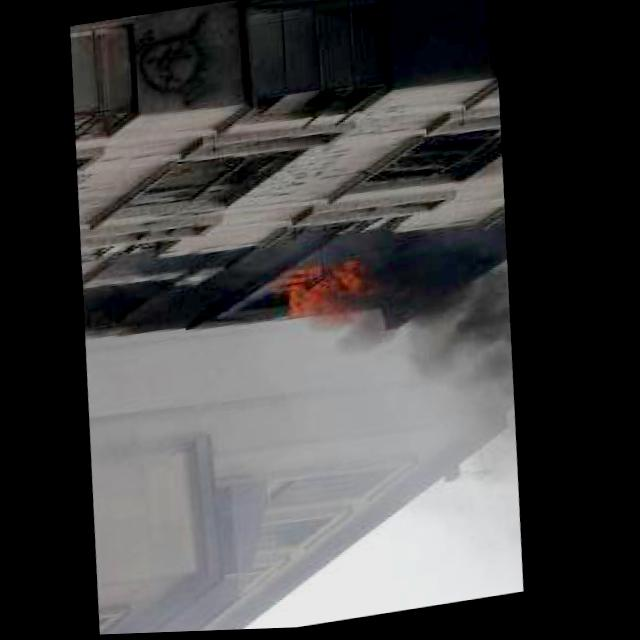helmet: (273, 255, 390, 330)
no_helmet: (359, 274, 532, 437)
